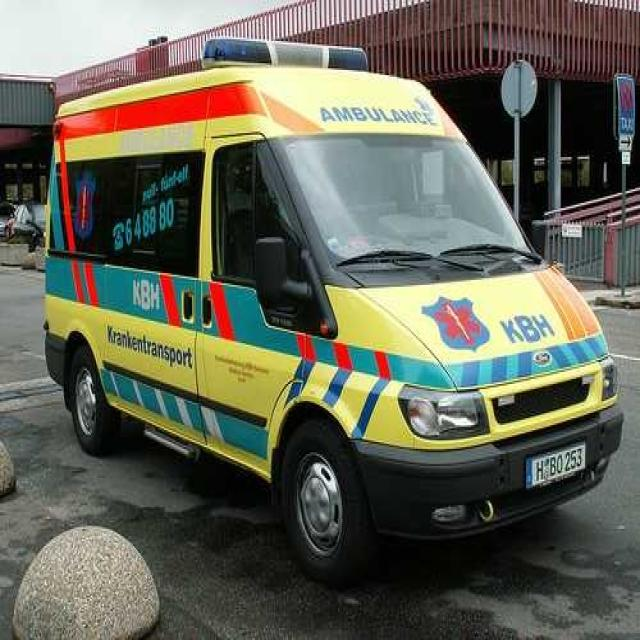ambulance: (24, 51, 640, 551)
